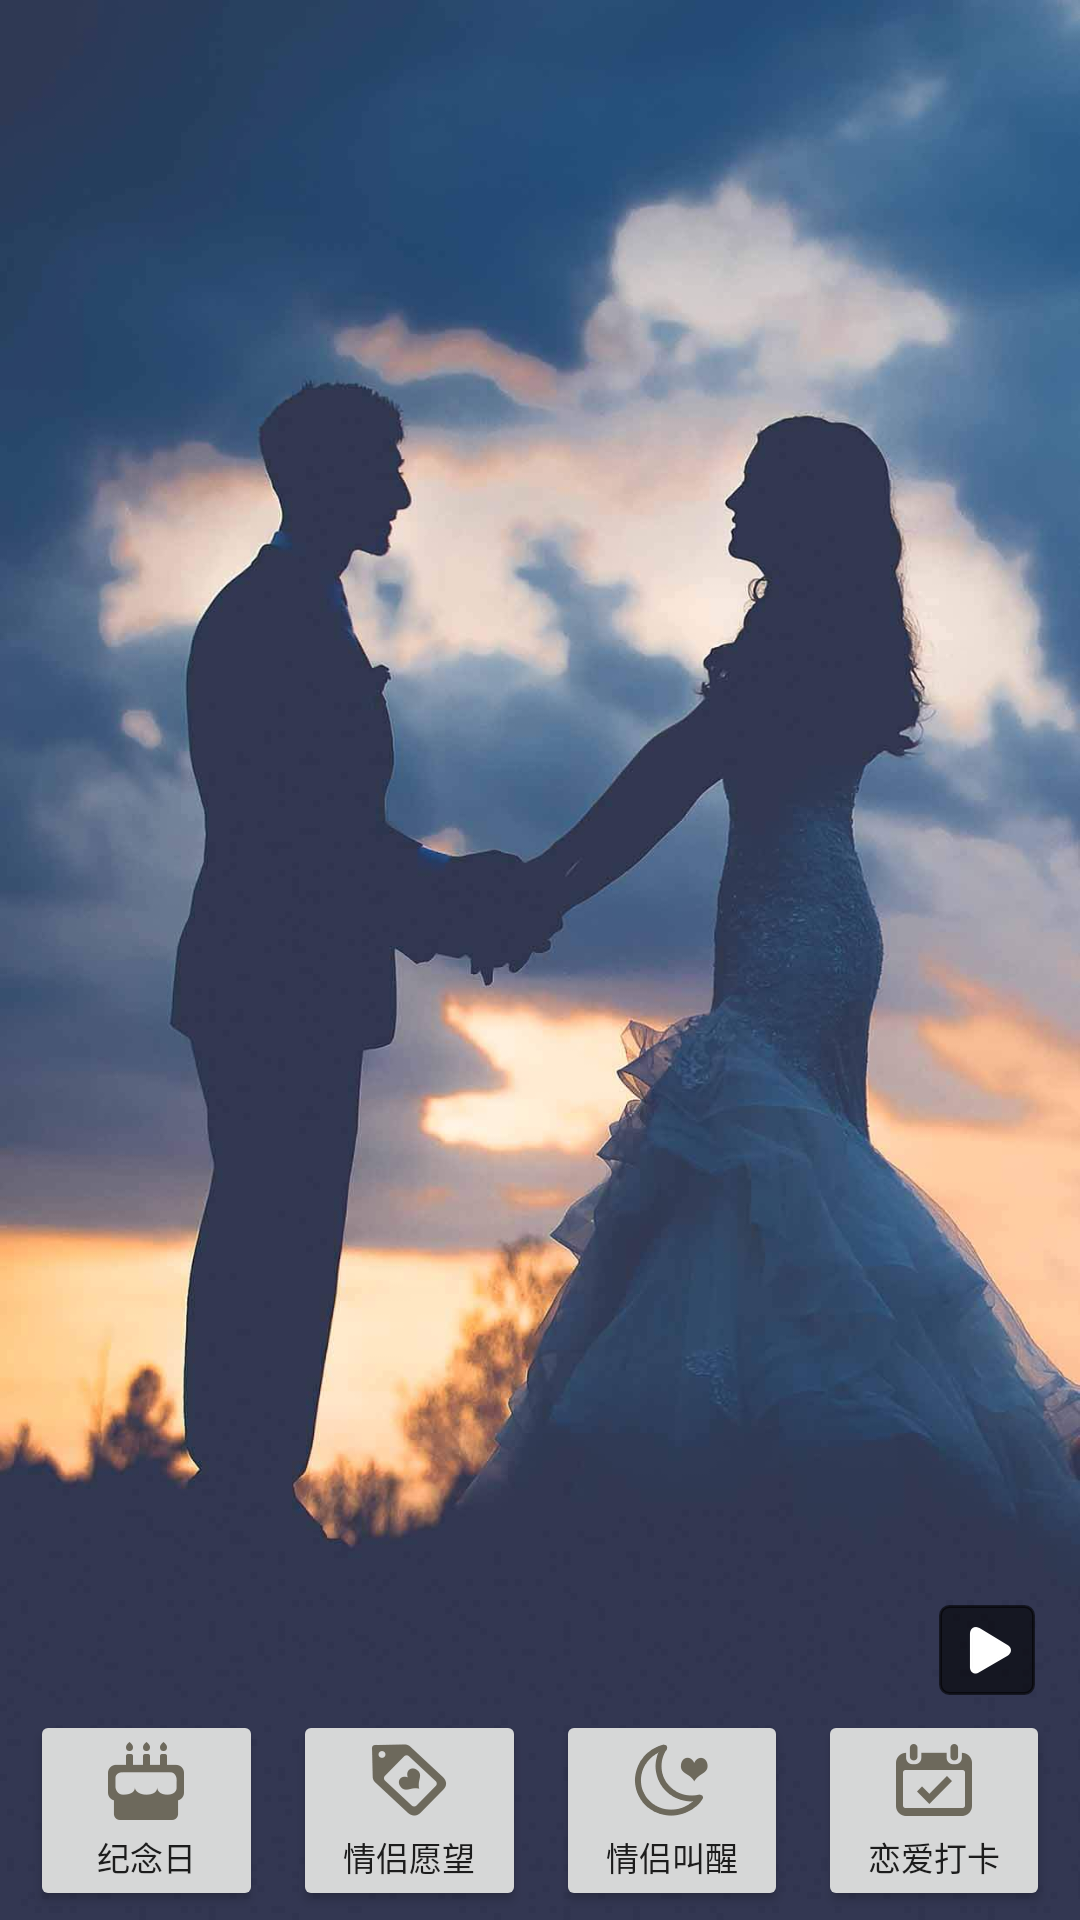

Point at icon controls on the screen. Image size 1080px x 1920px, points as (x=x, y=y).
videoplay play: (x=987, y=1650)
